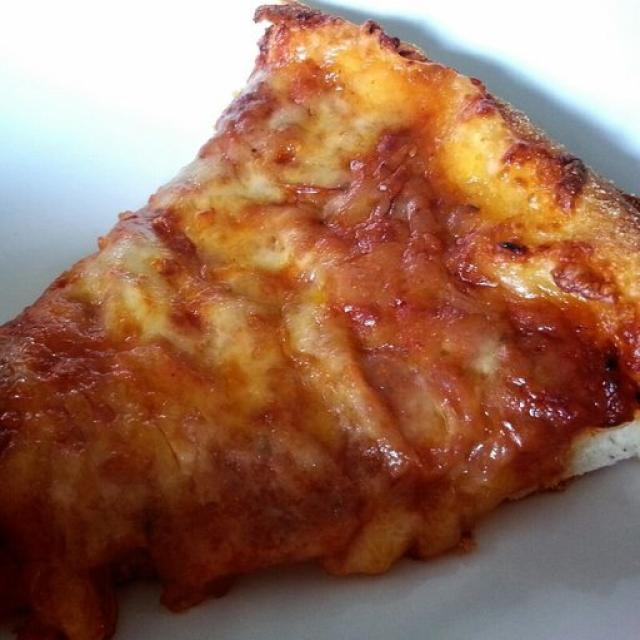Pizza: (0, 3, 640, 640)
